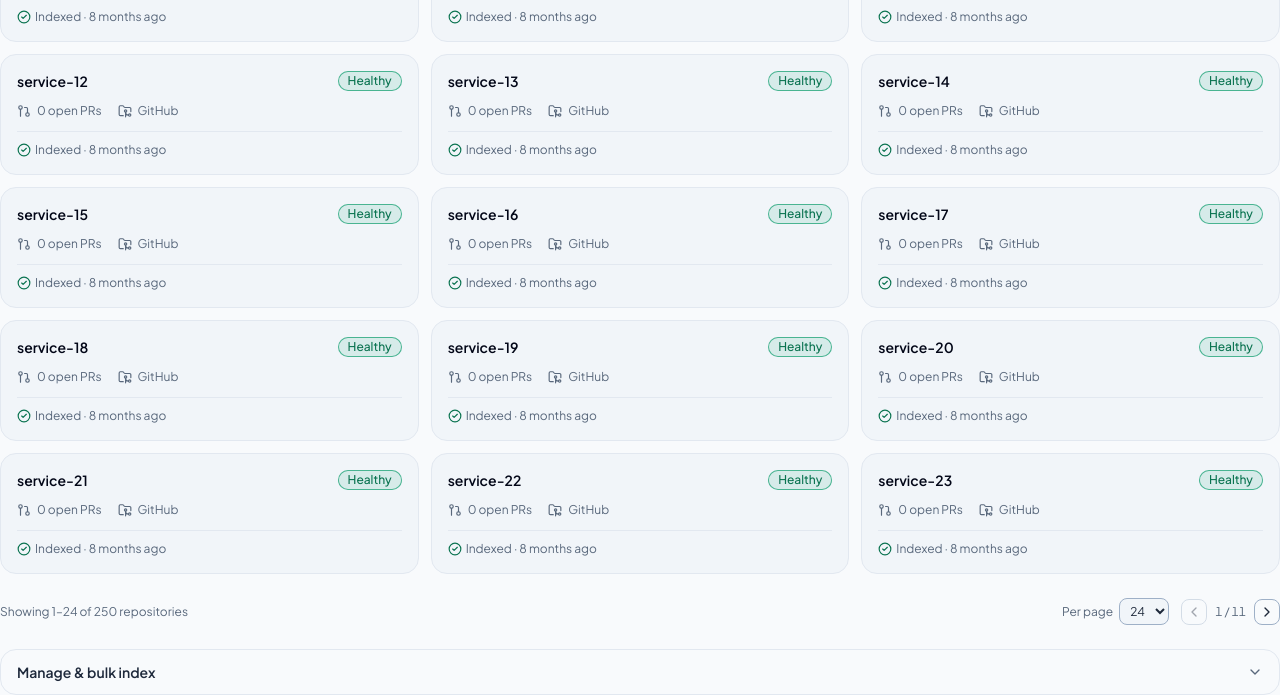
Test: RepositoriesPage › searches server-side and resets to the first page
(page scrolled)
Click the button named "Next page" at (1267, 612), box [1254,598,1279,624]
(page scrolled)
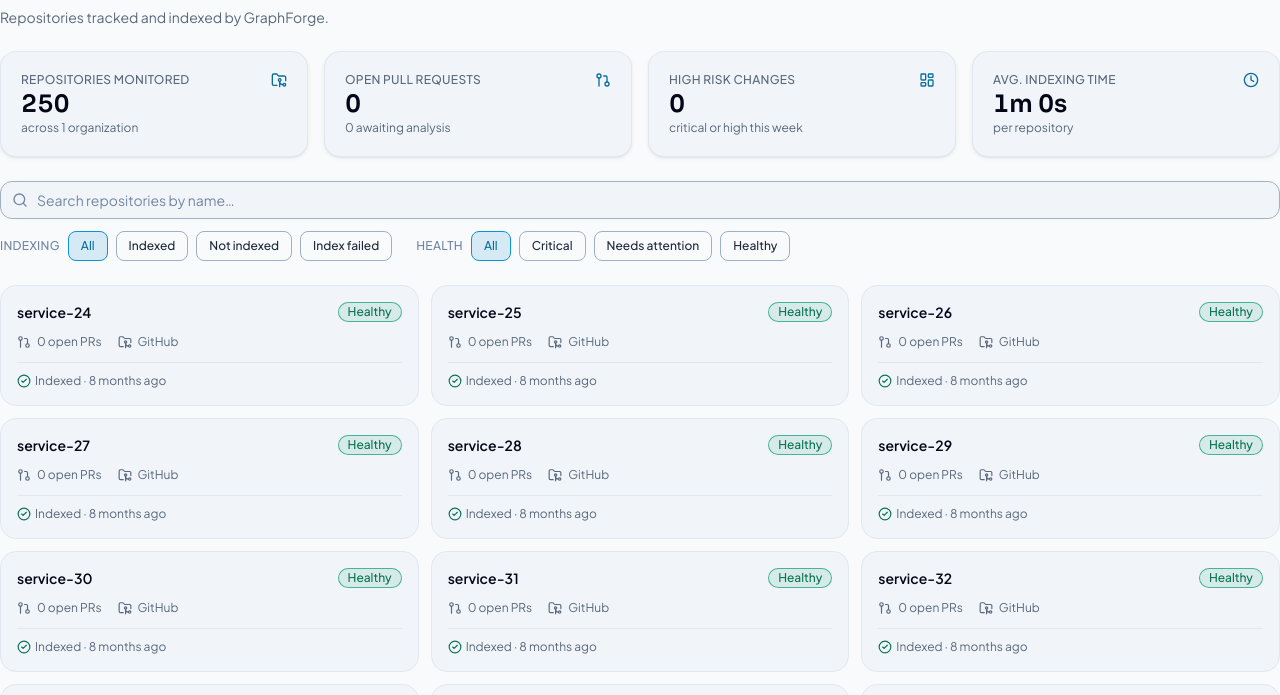
Now the text "service-24" is shown, box [17,302,91,322]
Type "service-117" into the search field labelled "Search repositories" at (640, 200), box [0,181,1279,219]
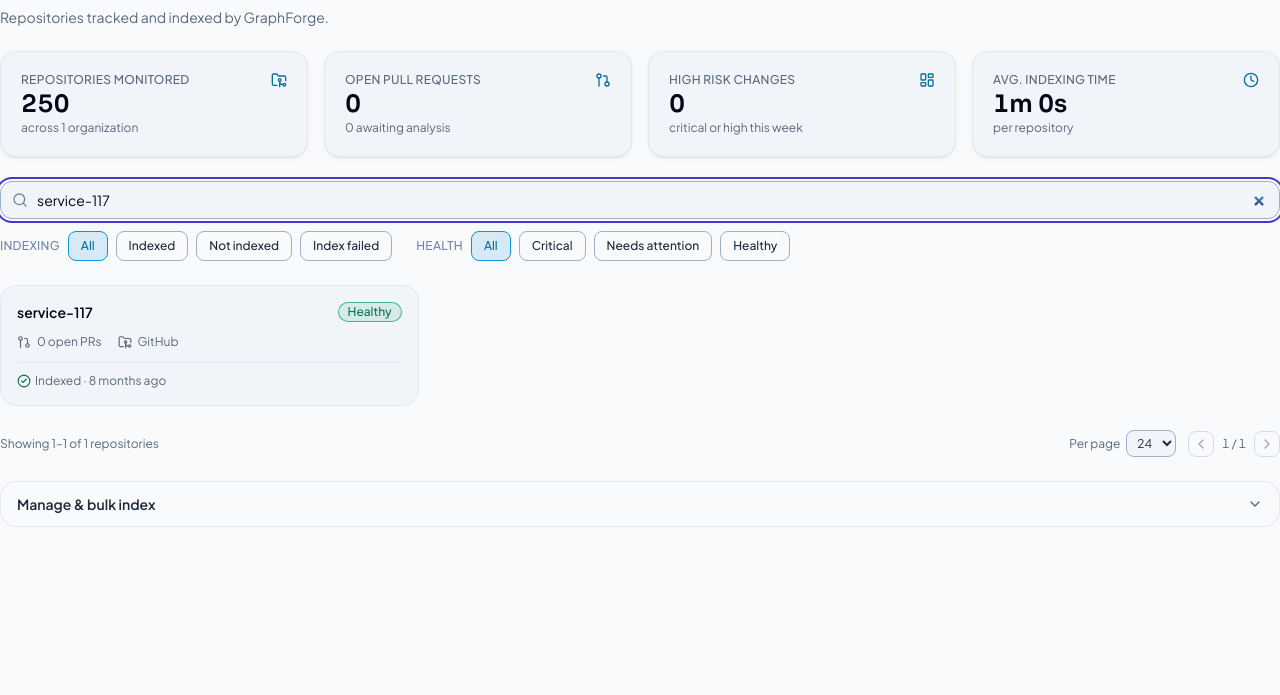
Now the text "service-117" is shown, box [17,302,93,322]
